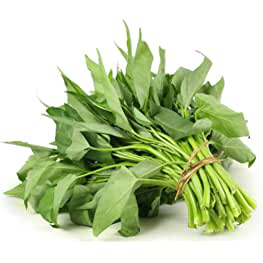Kangkung: (26, 26, 262, 251)
